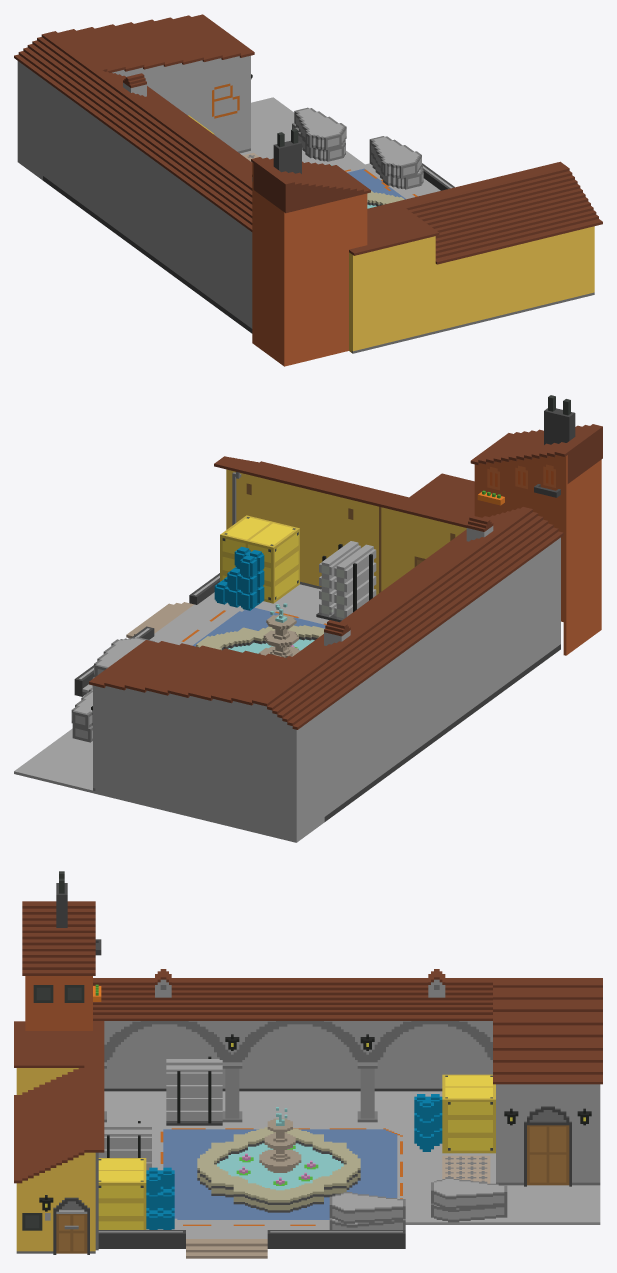
The model's file is inferno_b_test.glb.
3 renders of one model, top to bottom at view 1: azimuth 30°, elevation 25°; view 2: azimuth 150°, elevation 25°; view 3: azimuth 270°, elevation 25°, orthographic. The views are drawn at different scales.
Visible parts, largest first — view 1: VoxelMesh0; view 2: VoxelMesh0; view 3: VoxelMesh0.
Boxes of the visible parts, left/top/right/bottom form: VoxelMesh0: left=14, top=14, right=602, bottom=366; VoxelMesh0: left=14, top=395, right=602, bottom=842; VoxelMesh0: left=14, top=871, right=602, bottom=1258.
Size of the model in its own units: 137 by 90 by 209.
1 material, 1 textured.
